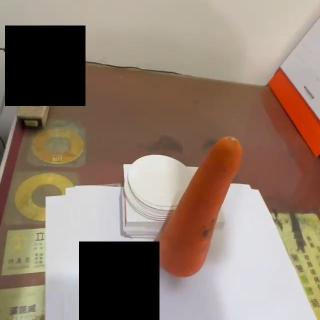carrot: (156, 134, 242, 280)
